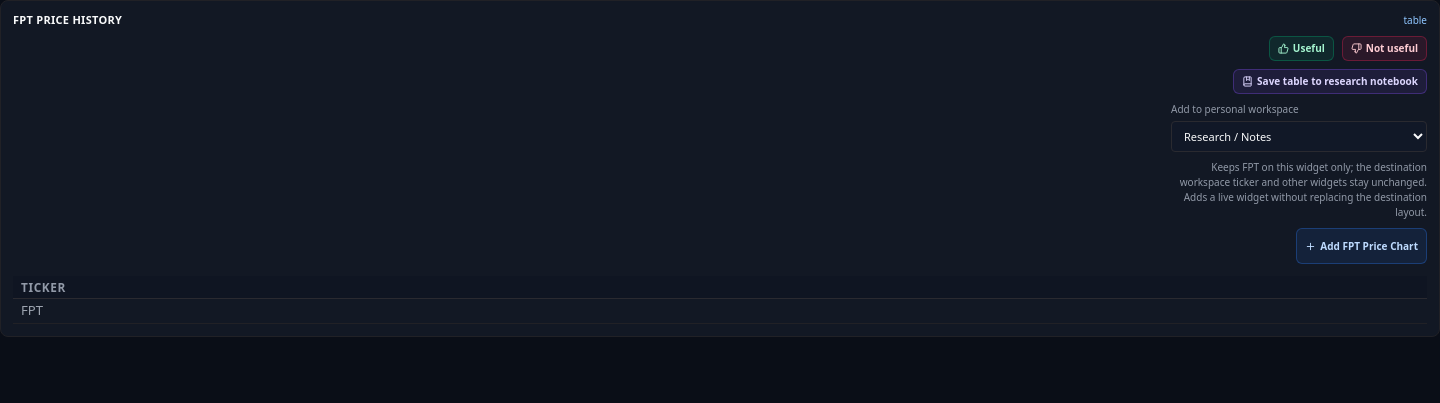
artifact provenance › writes the artifact identity into the created widget config and shows where it landed
Select "Research / Valuation" in the dropdown named "destination". click: (1299, 136)
box: [1171,121,1427,152]
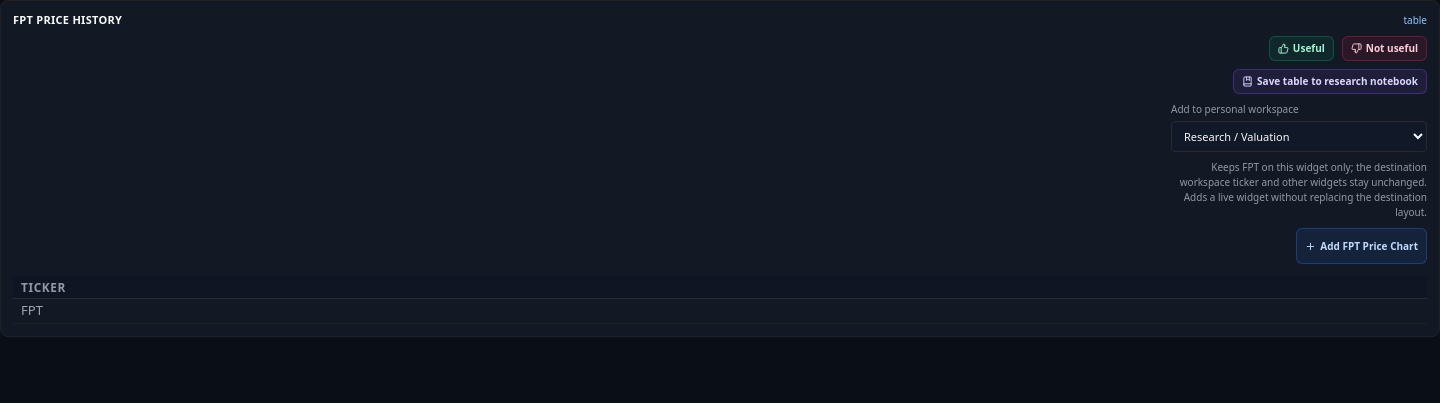
Click the button "Add FPT Price Chart". click: (1362, 246)
box: [1296,228,1427,264]
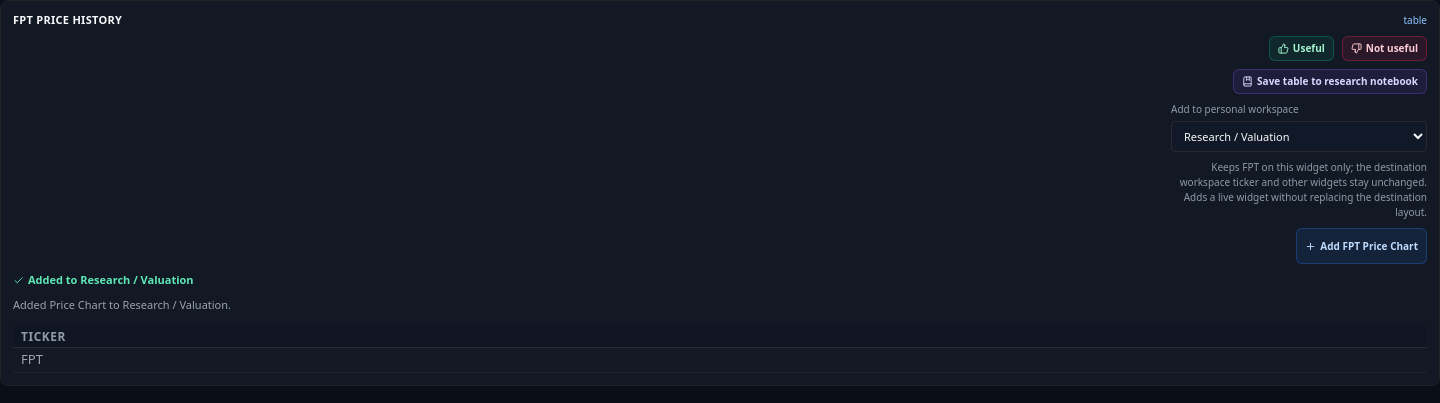
Now the text "Added to Research / Valuation" is shown, box [13,272,194,287]
